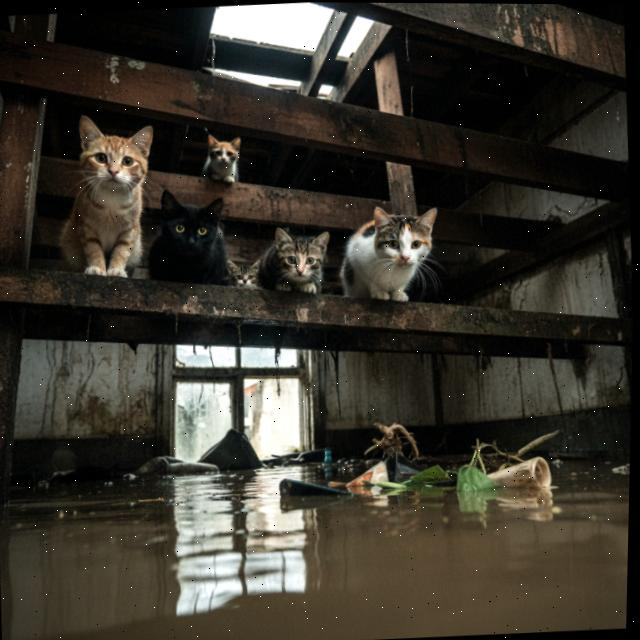cat: (47, 103, 171, 298), (334, 197, 451, 315), (149, 176, 239, 299), (243, 209, 342, 304), (195, 127, 247, 186), (220, 250, 269, 297)
